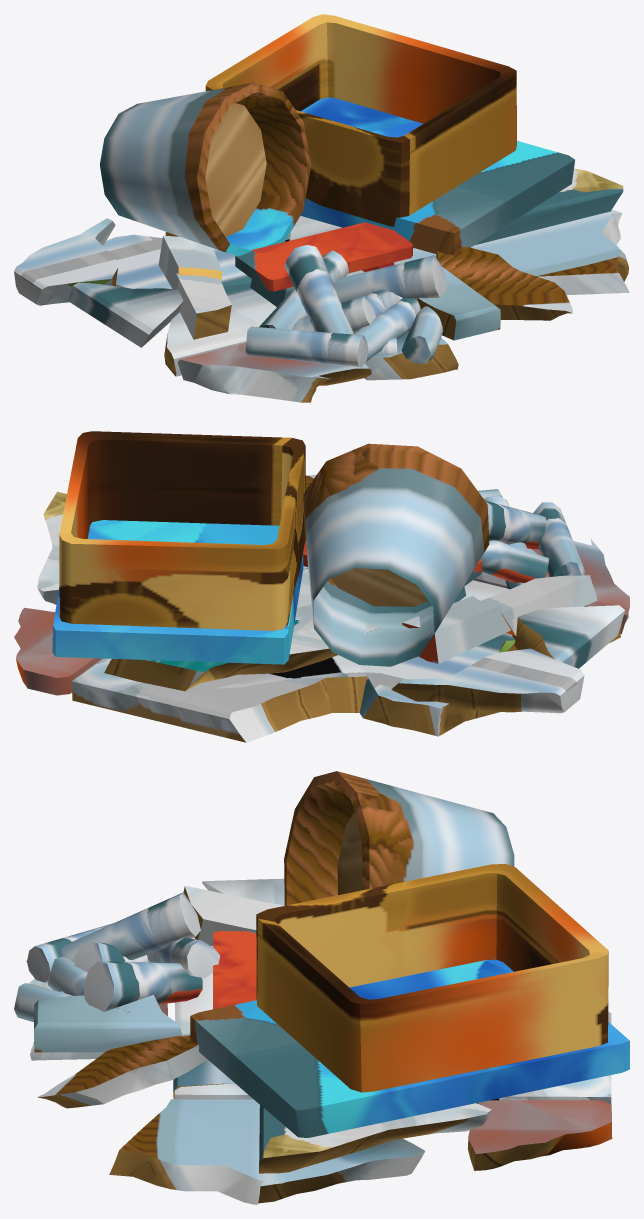
Rendered from Cty_Bld_FishShopBreak01_Mod.FBX.
The picture shows the model from 3 angles, top to bottom: view 1: azimuth 30°, elevation 25°; view 2: azimuth 150°, elevation 25°; view 3: azimuth 270°, elevation 25°; orthographic projection. The views are drawn at different scales.
Parts seen in each view (by area): view 1: Cty_Bld_FishShopBreak01_Mod; view 2: Cty_Bld_FishShopBreak01_Mod; view 3: Cty_Bld_FishShopBreak01_Mod.
Part boxes in pixels (x1=…): Cty_Bld_FishShopBreak01_Mod: x1=14, y1=14, x2=629, y2=402; Cty_Bld_FishShopBreak01_Mod: x1=14, y1=431, x2=629, y2=742; Cty_Bld_FishShopBreak01_Mod: x1=14, y1=771, x2=629, y2=1204.
Bounding box in the file's own units: 848 × 724 × 306.
Materials: 1 (1 with a texture image).
